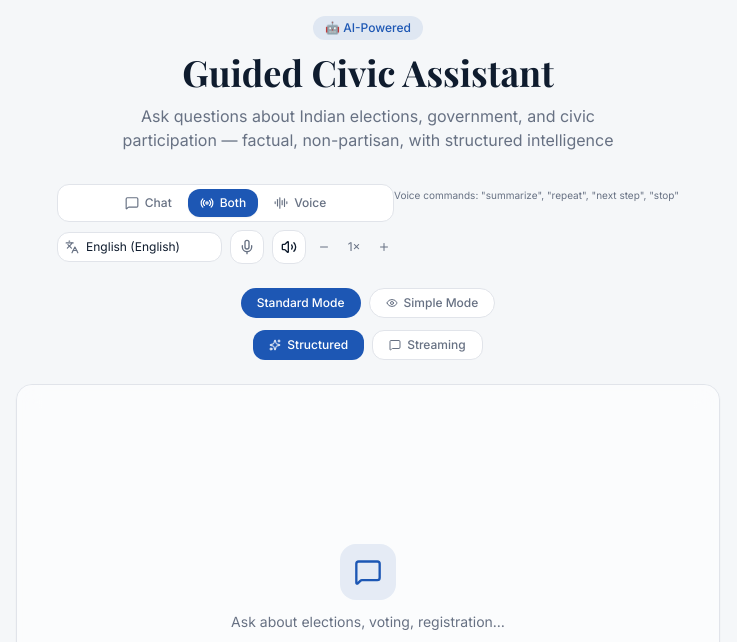
ChatBox integration › toggles between standard and simple mode
Click the button "Simple Mode": {"x": 432, "y": 303} [368,288,495,318]
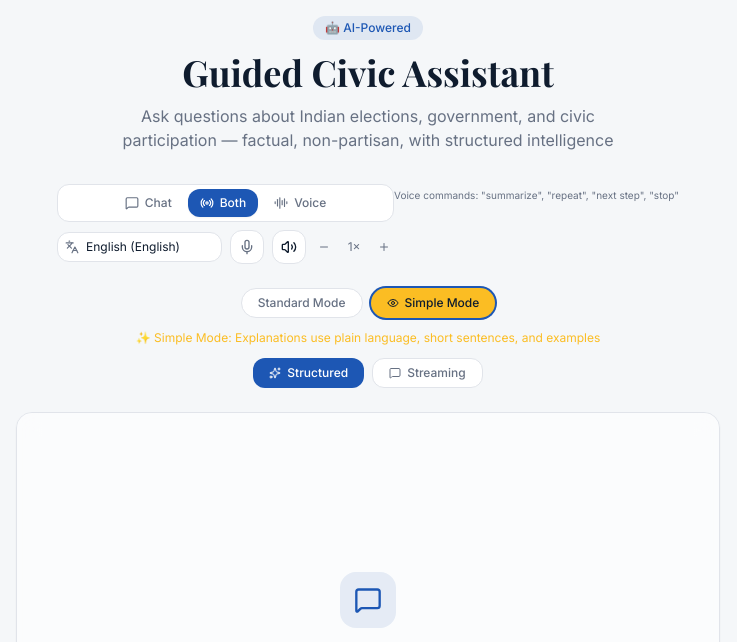
Expected: the button "Simple Mode" is pressed, [370,288,495,318]
Expected: the button "Standard Mode" is not pressed, [241,288,363,318]
